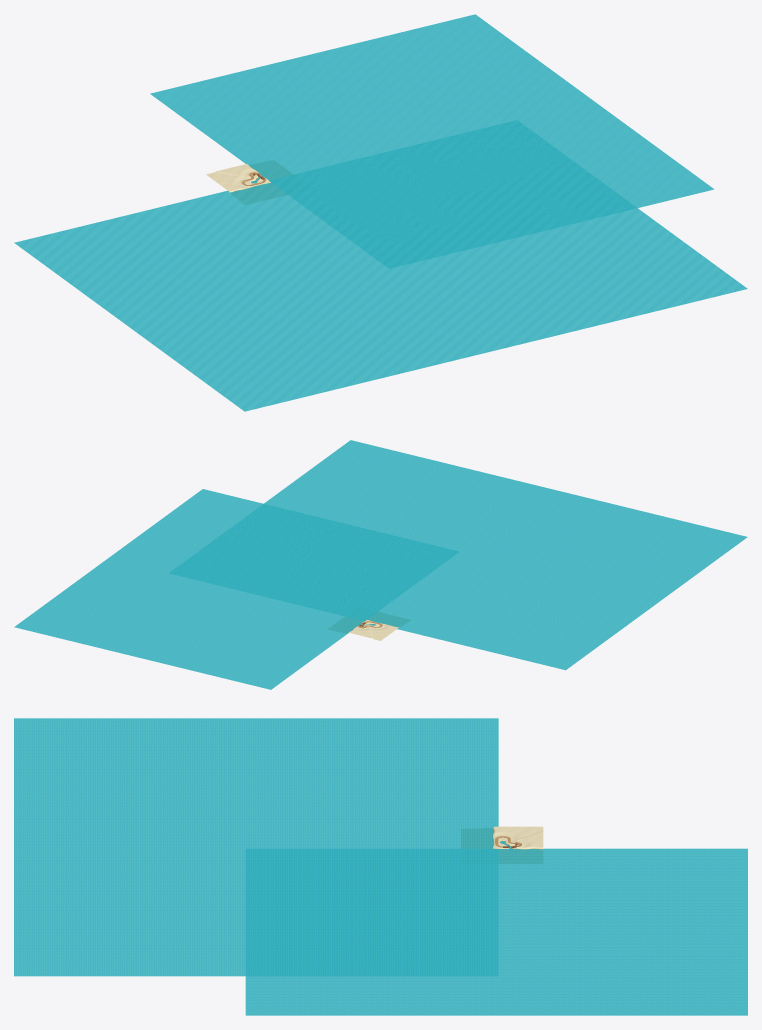
The picture shows the model from 3 angles, top to bottom: view 1: azimuth 30°, elevation 25°; view 2: azimuth 150°, elevation 25°; view 3: azimuth 270°, elevation 25°; orthographic projection. The views are drawn at different scales.
Parts seen in each view (by area): view 1: Sea South, Sea East, Sand; view 2: Sea South, Sea East, Sand; view 3: Sea South, Sea East, Sand.
Boxes of the visible parts, x1,y1,x2,y2 form: Sea South: [14, 120, 747, 411]; Sea East: [150, 14, 714, 258]; Sand: [206, 164, 270, 192]; Sea South: [169, 440, 747, 670]; Sea East: [14, 489, 458, 689]; Sand: [348, 619, 399, 640]; Sea South: [14, 718, 498, 976]; Sea East: [245, 848, 747, 1015]; Sand: [492, 826, 543, 849].
Size of the model in its own units: 3920 by 23.08 by 4090.
12 materials, 12 textured.
